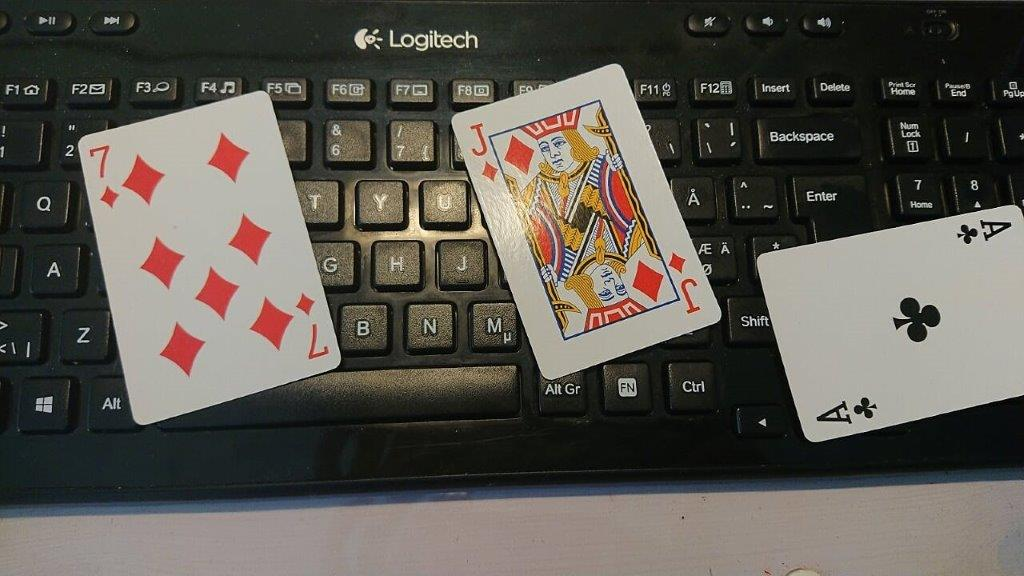7D: (83, 142, 121, 212)
JD: (461, 120, 503, 185)
